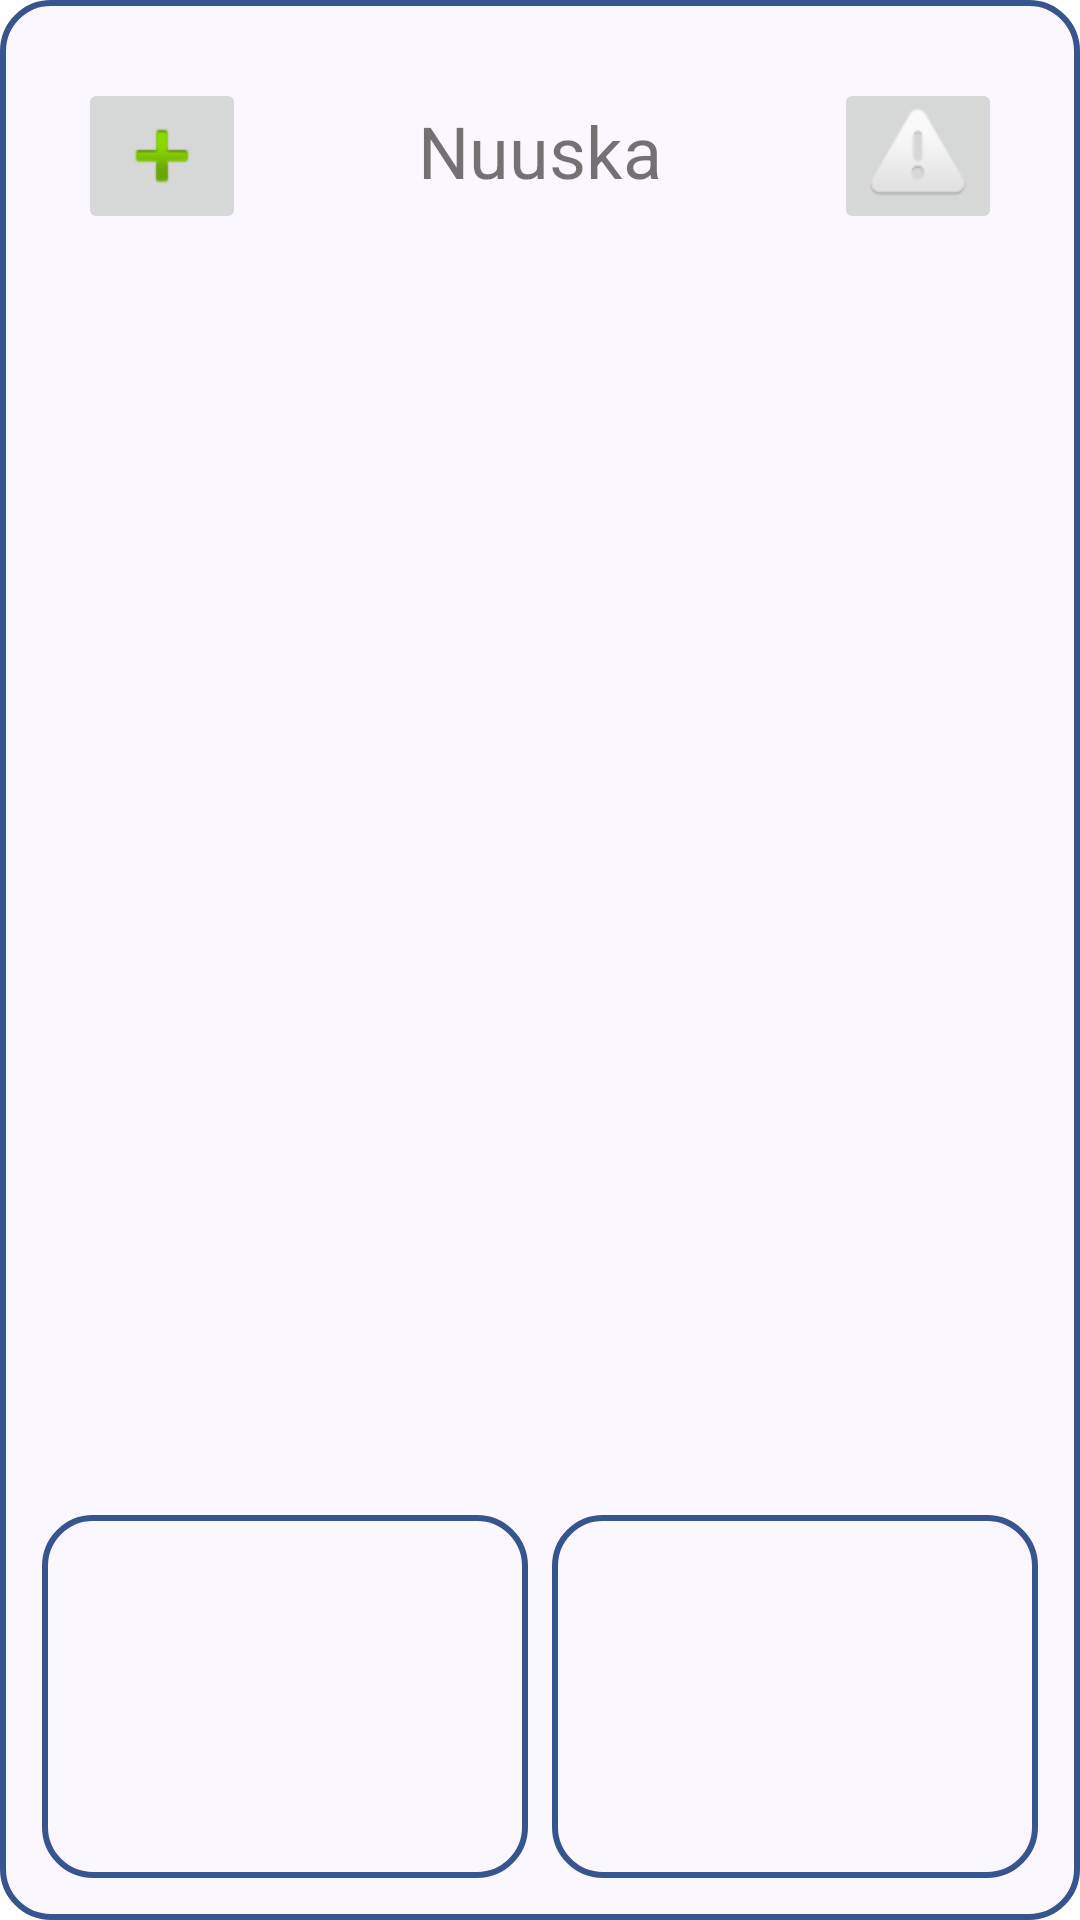

Icons on this 1080 × 1920 Android screen, each with its box as [x1, y1, x2, y2]:
add: [90, 96, 234, 216]
alert: [846, 96, 990, 216]
